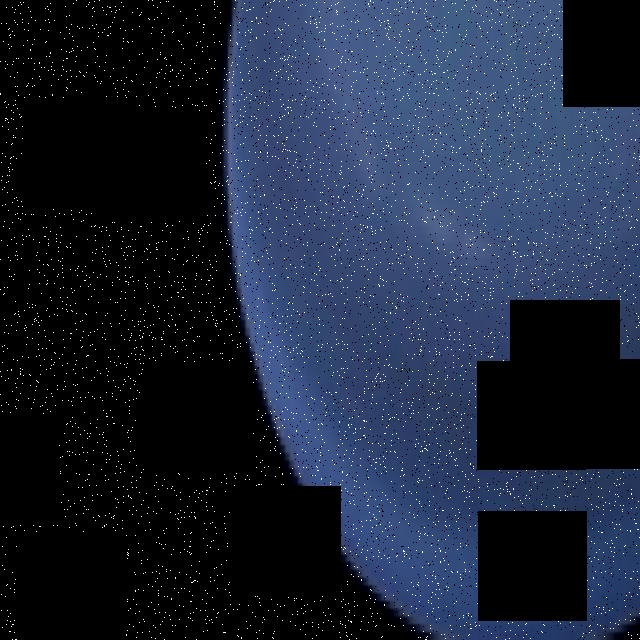Neptune: (224, 0, 640, 640)
